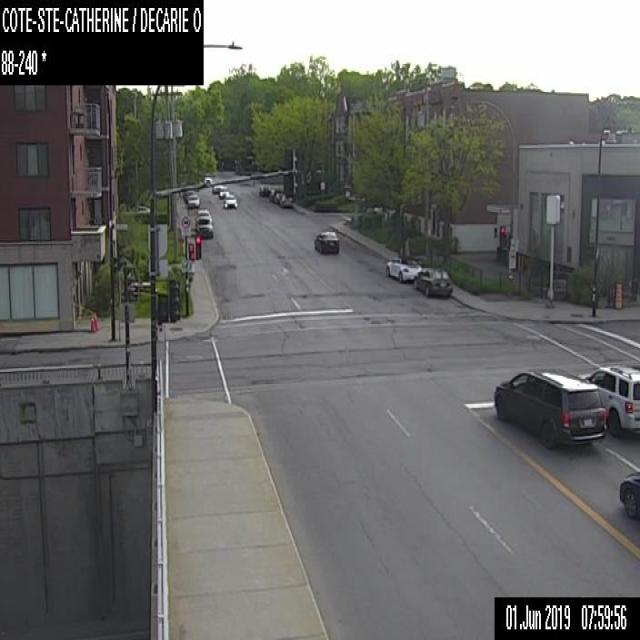construction: (615, 282, 621, 309), (93, 312, 99, 329), (90, 317, 94, 330)
vehicle: (492, 368, 606, 449), (578, 365, 639, 436), (414, 268, 452, 298), (618, 468, 639, 521), (386, 255, 421, 280), (313, 230, 339, 252), (195, 217, 212, 238), (223, 193, 237, 208), (196, 209, 211, 222), (280, 193, 292, 208), (268, 188, 280, 202), (187, 194, 199, 206), (258, 185, 270, 196), (218, 186, 228, 196), (274, 192, 283, 203), (211, 184, 223, 192), (203, 175, 211, 183)
